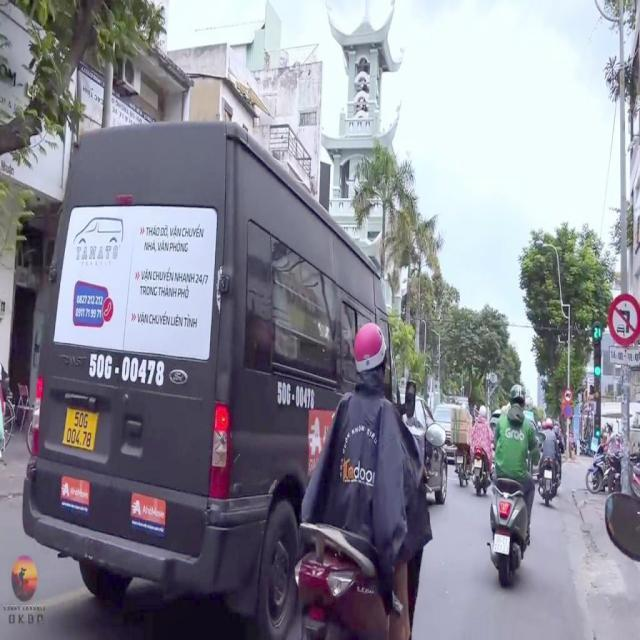106-cam-oto-tai: (562, 388, 572, 402)
123a-cam-re-trai: (606, 294, 640, 346)
